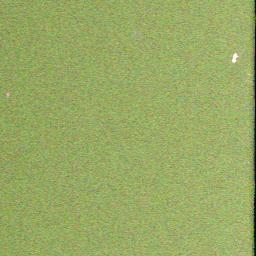Ship: (225, 50, 242, 63), (2, 88, 16, 101)
